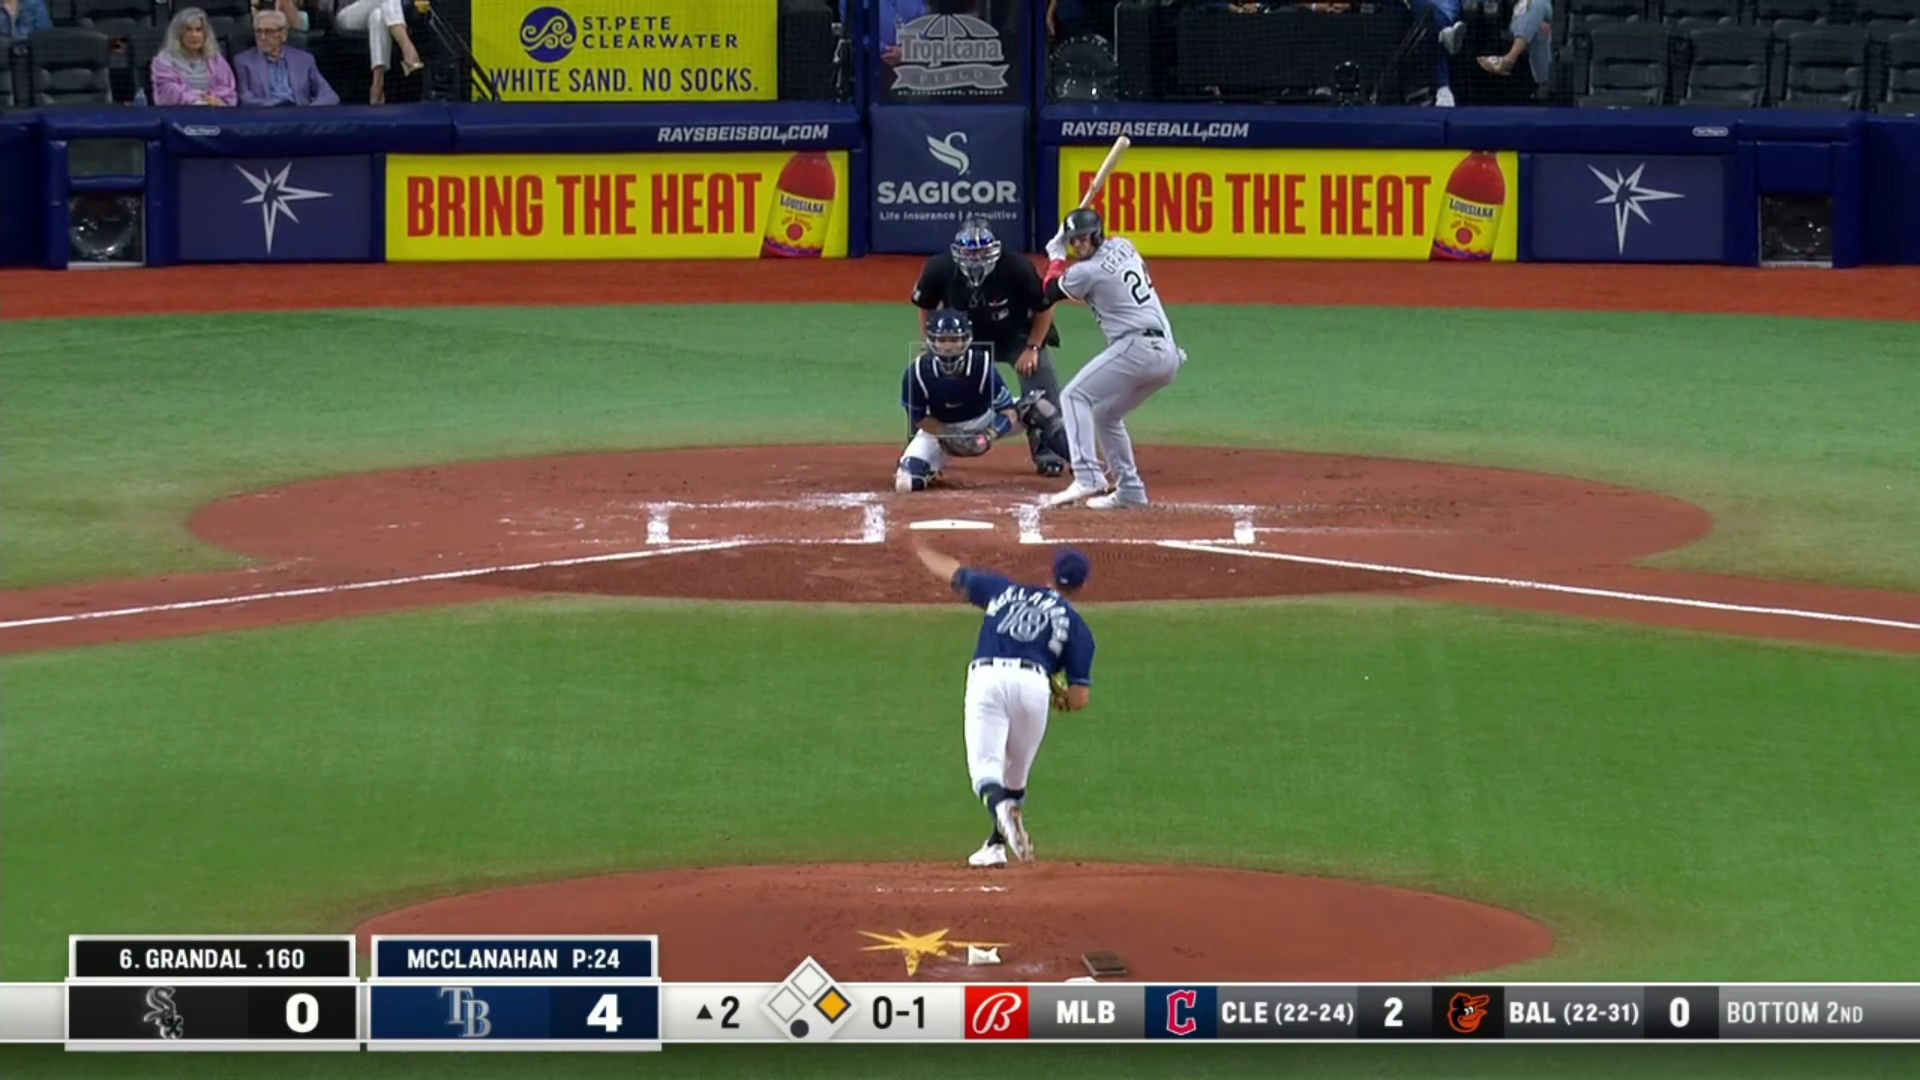baseball: (891, 467, 913, 493)
